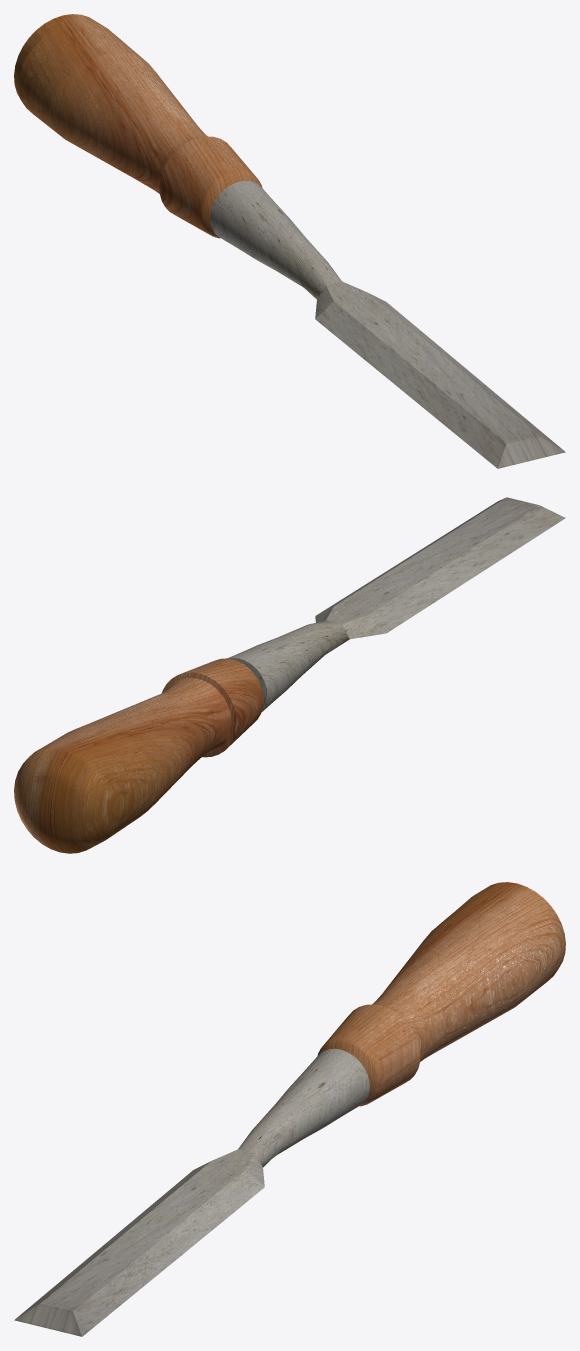
Rendered from Chisel4.gltf.
3 renders of one model, top to bottom at view 1: azimuth 30°, elevation 25°; view 2: azimuth 150°, elevation 25°; view 3: azimuth 330°, elevation 25°, orthographic.
Visible parts, largest first — view 1: Chisel; view 2: Chisel; view 3: Chisel.
Boxes of the visible parts, x1=… form: Chisel: x1=14, y1=14, x2=565, y2=468; Chisel: x1=14, y1=497, x2=565, y2=853; Chisel: x1=14, y1=882, x2=565, y2=1336.
Bounding box in the file's own units: 4.21 × 3.9 × 32.87.
Materials: 2 (2 with a texture image).
